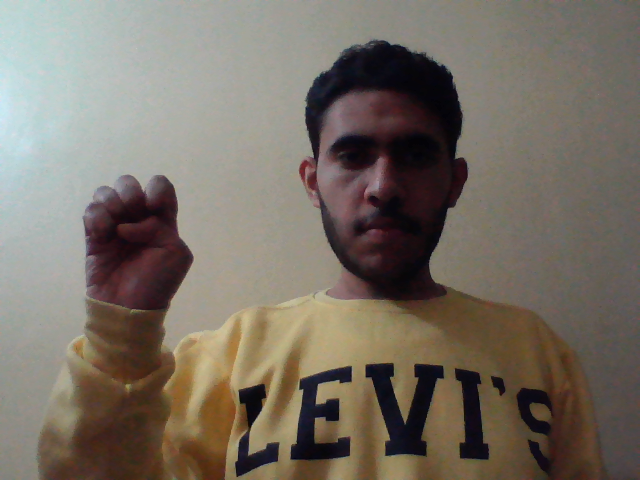E: (69, 172, 201, 325)
